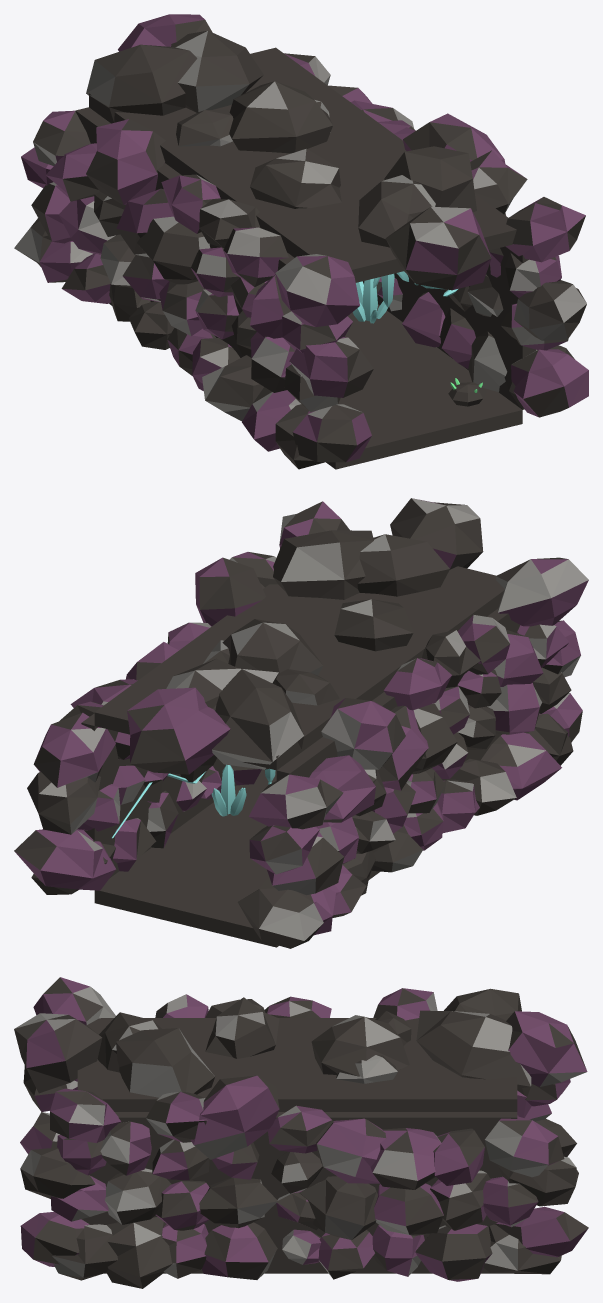
File: Cave_Crystal_Tunnel.fbx
3 renders of one model, top to bottom at view 1: azimuth 30°, elevation 25°; view 2: azimuth 150°, elevation 25°; view 3: azimuth 270°, elevation 25°, orthographic. The views are drawn at different scales.
Visible parts, largest first — view 1: Decor, Ceiling1, Floor1, Wall1, Wall2; view 2: Decor, Ceiling1, Floor1, Wall1, Wall2; view 3: Decor, Ceiling1, Wall1, Floor1.
Boxes of the visible parts, x1,y1,x2,y2 form: Decor: (14,14,588,469); Ceiling1: (89,47,516,282); Floor1: (109,303,522,469); Wall1: (363,246,535,409); Wall2: (75,107,294,357); Decor: (14,498,588,948); Ceiling1: (94,566,504,770); Floor1: (94,769,379,947); Wall1: (81,713,236,878); Wall2: (276,608,520,878); Decor: (14,977,588,1288); Ceiling1: (77,1018,517,1111); Wall1: (81,1112,517,1266); Floor1: (104,1267,505,1273).
Size of the model in its own units: 24.9 by 17.64 by 41.85.
